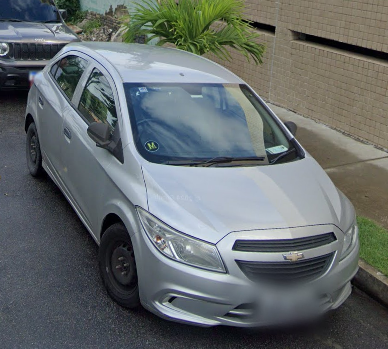car: (25, 38, 360, 337)
